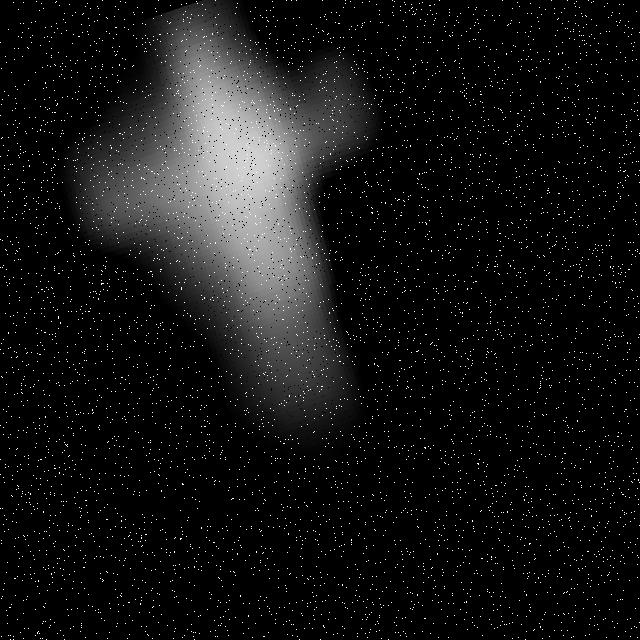person: (36, 1, 424, 478)
